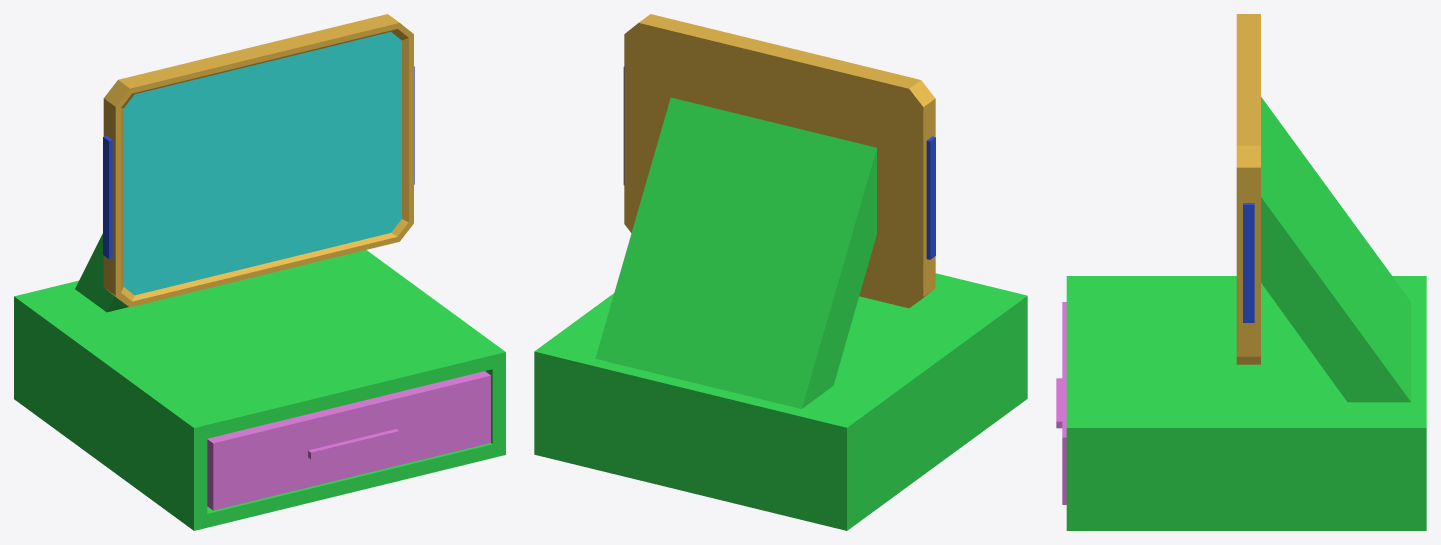
File: Cash_Counter_01.fbx
3 views of the same model, side by side, from view 1: azimuth 30°, elevation 25°; view 2: azimuth 150°, elevation 25°; view 3: azimuth 270°, elevation 25° (orthographic).
Parts seen in each view (by area): view 1: Cash_Counter_01; view 2: Cash_Counter_01; view 3: Cash_Counter_01.
Part boxes in pixels (<box>): Cash_Counter_01: <box>14,14,505,530</box>; Cash_Counter_01: <box>534,14,1027,530</box>; Cash_Counter_01: <box>1056,14,1426,530</box>.
Size of the model in its own units: 60.96 by 70.04 by 62.71.
